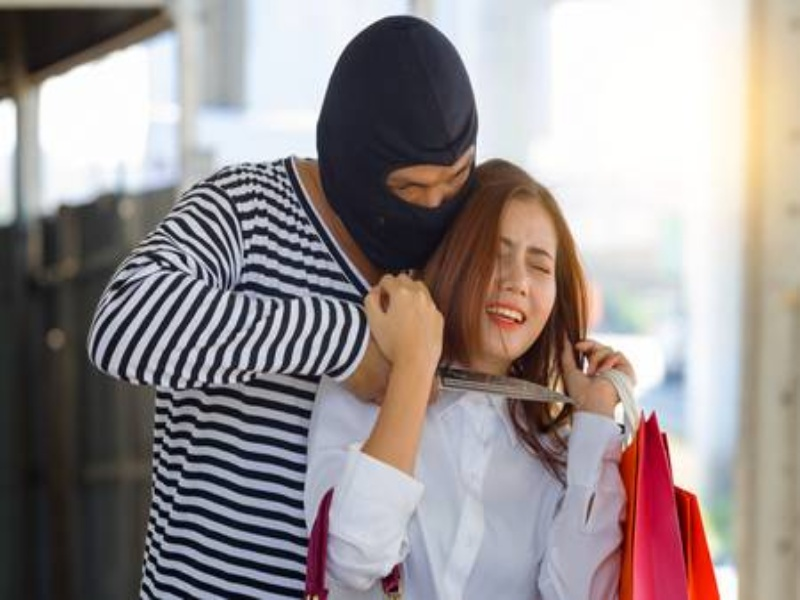balaclava: (313, 12, 478, 270)
hand: (558, 330, 640, 423), (361, 273, 441, 364)
knife: (428, 364, 574, 407)
person: (302, 159, 636, 600)
